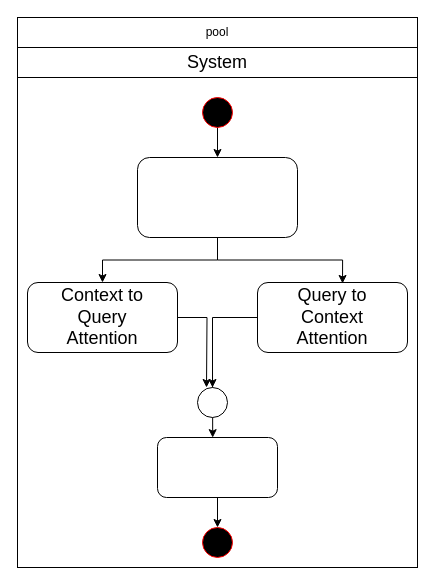
Some shapes in this 435 by 585 pixel diagram are drawn without their labels. The shapes that lost their labels are listed below. From the top down, each one's box as (x1, y1, x2, y2) in pixels, then its label:
(136, 156, 298, 238): Build Similarity Matrix
(156, 436, 278, 498): MegaMerge
